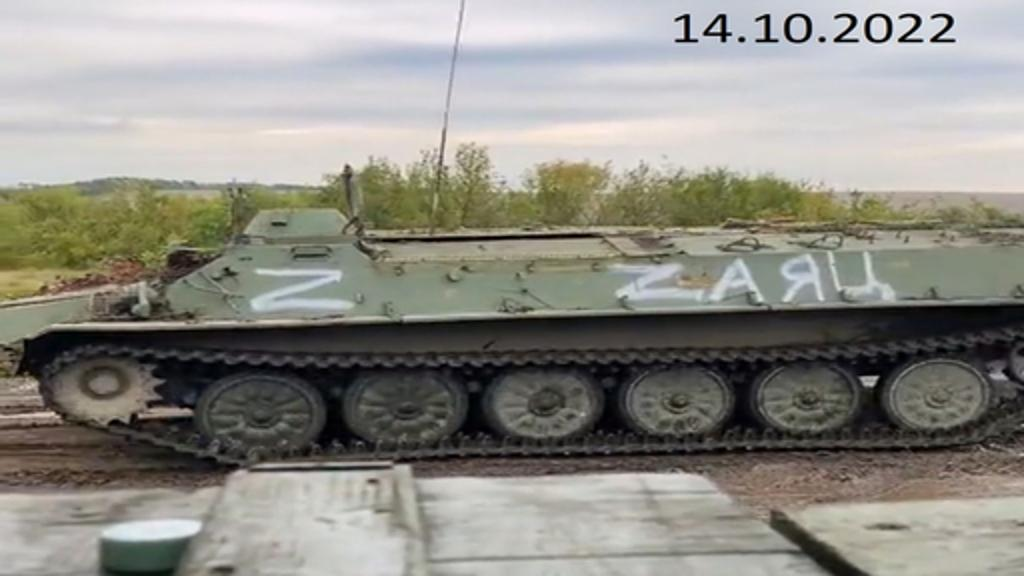APC-IFV: (14, 190, 1020, 458)
